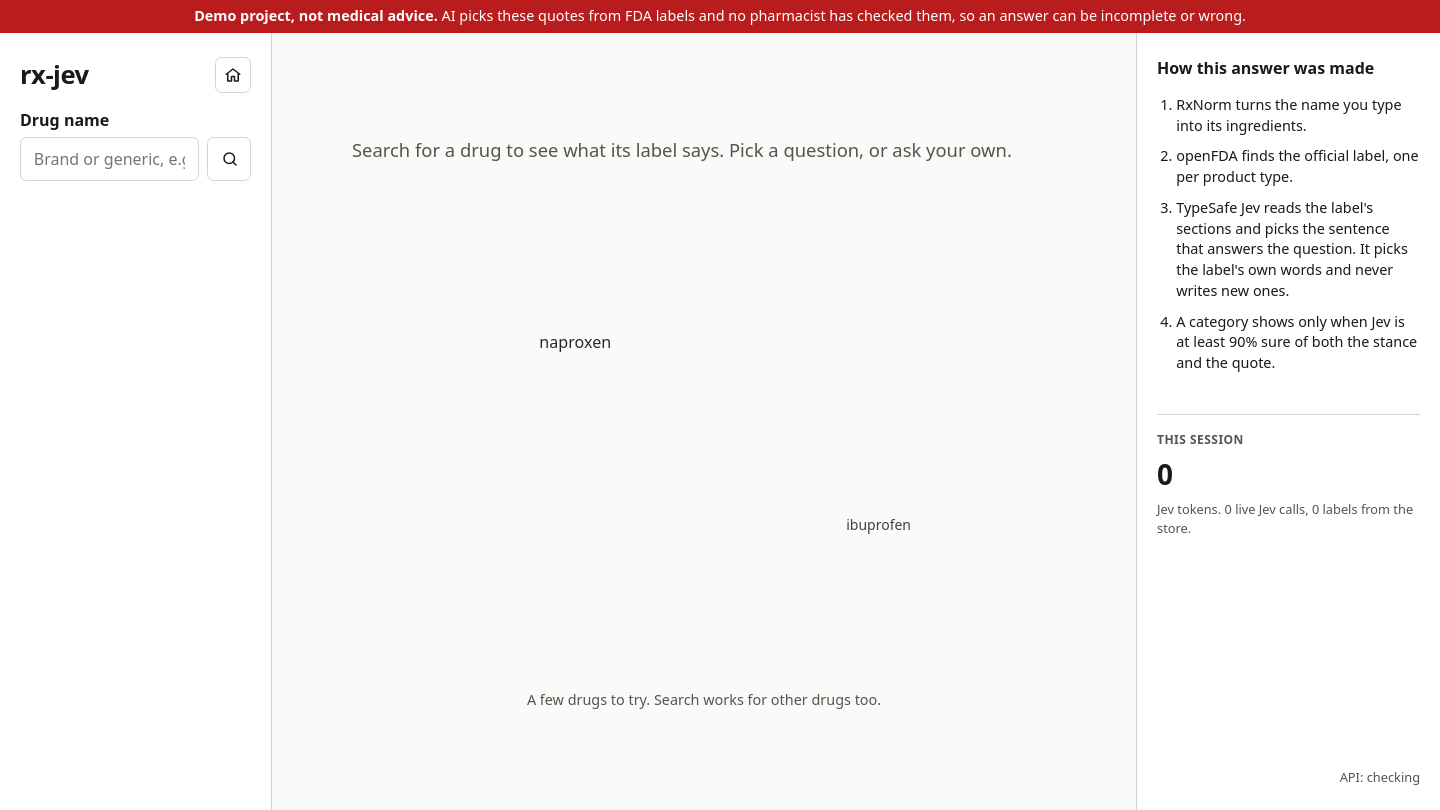
App › shows a fresh pick of drugs each time Home is pressed
This screenshot has width=1440, height=810.
Expected: the button "naproxen" is shown, left=534, top=329, right=617, bottom=356
Step 1. Click the button named "Home" → (233, 75), box left=215, top=57, right=251, bottom=93
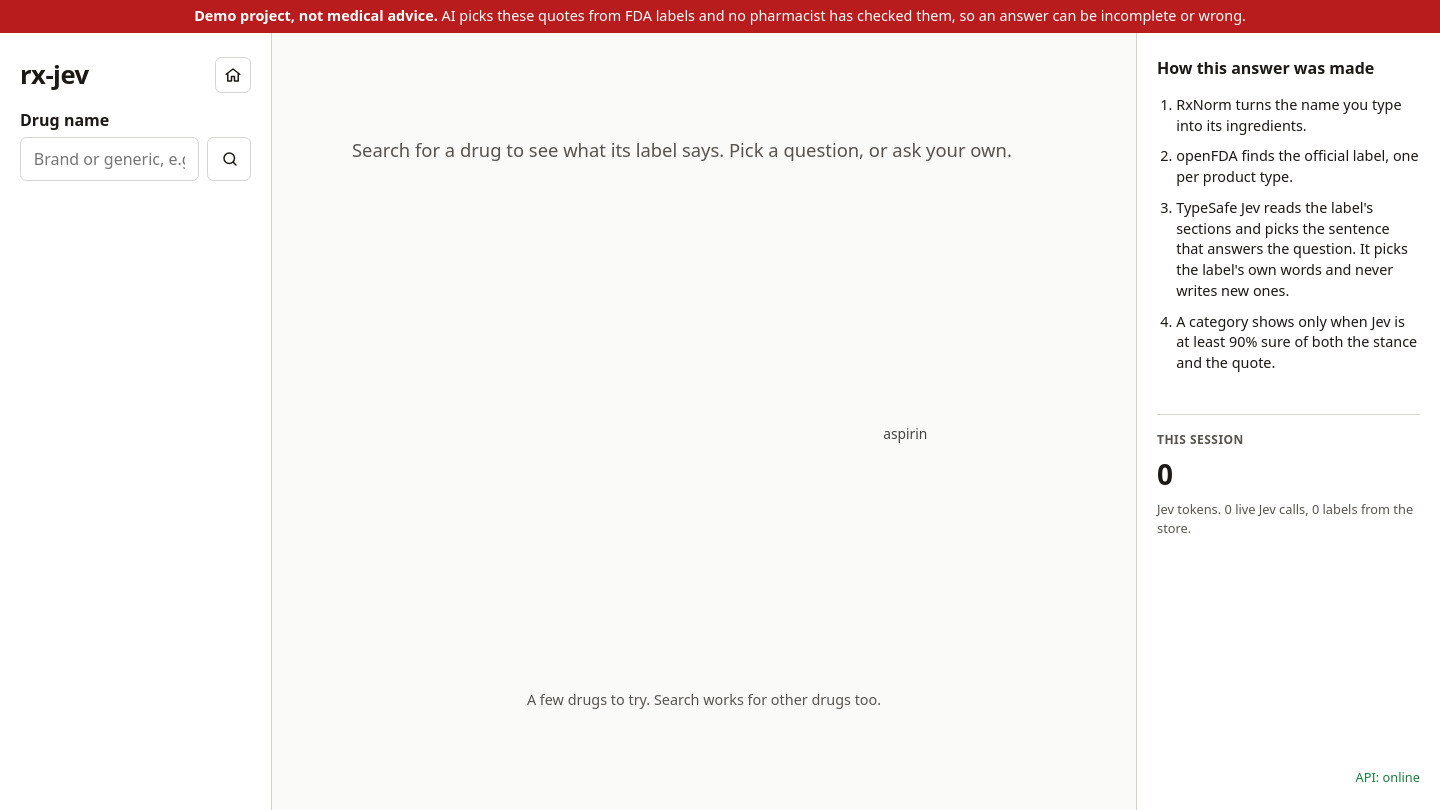
Result: the buttons read "aspirin", in this order at left=878, top=422, right=932, bottom=446
